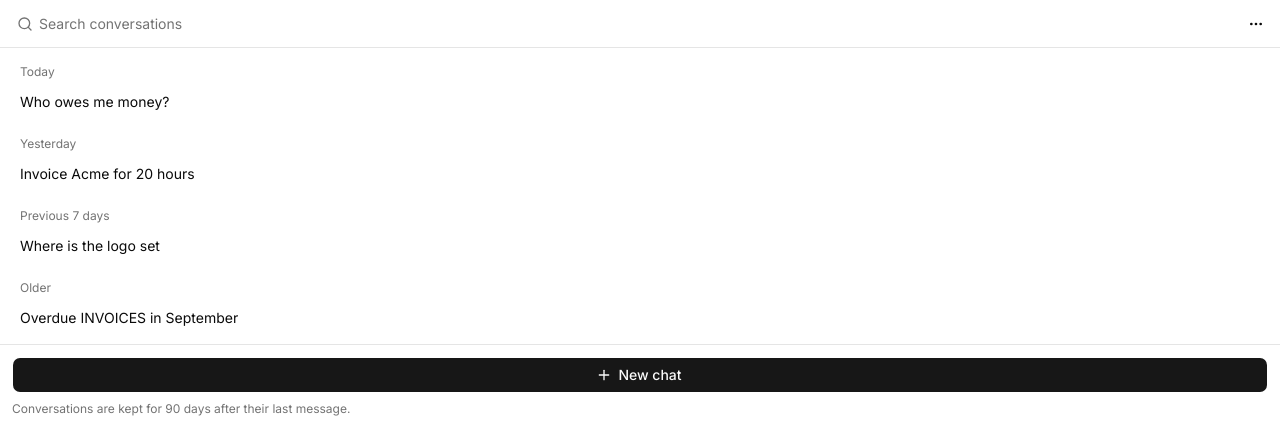
it: ConversationList - searching (AC-17) › says so when none match, with Clear search that restores every row; the footer stays
Type "zzz" into the field labelled "Search conversations" at (634, 24), box [33, 6, 1235, 42]
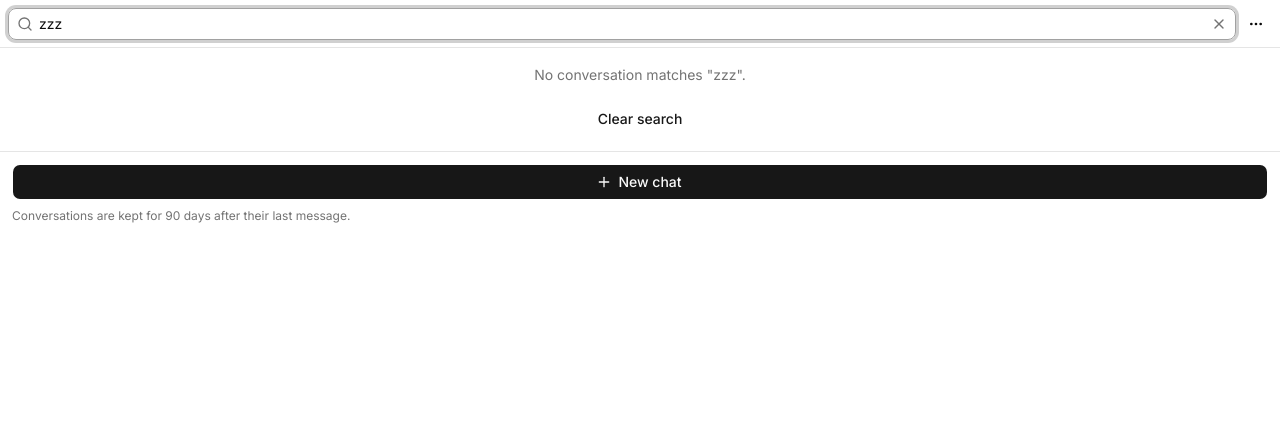
Expected: the link "New chat" is shown, [12, 164, 1268, 200]
Expected: the text "No conversation matches \"zzz\"." is shown, [534, 64, 746, 87]
Click the button "Clear search" at (640, 119), box [587, 103, 693, 135]
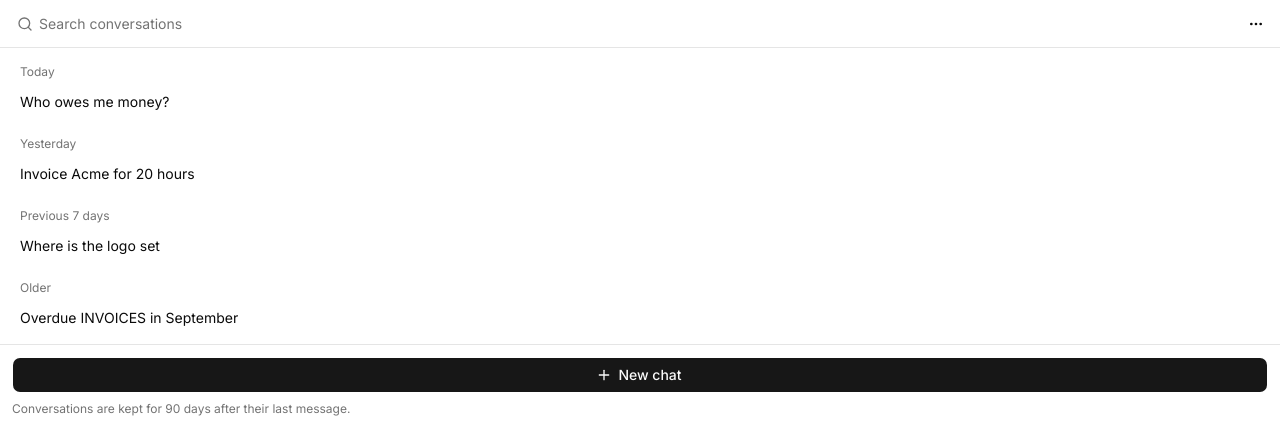
Expected: the field labelled "Search conversations" is empty, [33, 6, 1235, 42]
Expected: the number of links "Who owes me money?" is 4, [20, 93, 170, 110]; [20, 165, 195, 182]; [20, 237, 160, 254]; [20, 309, 238, 326]
